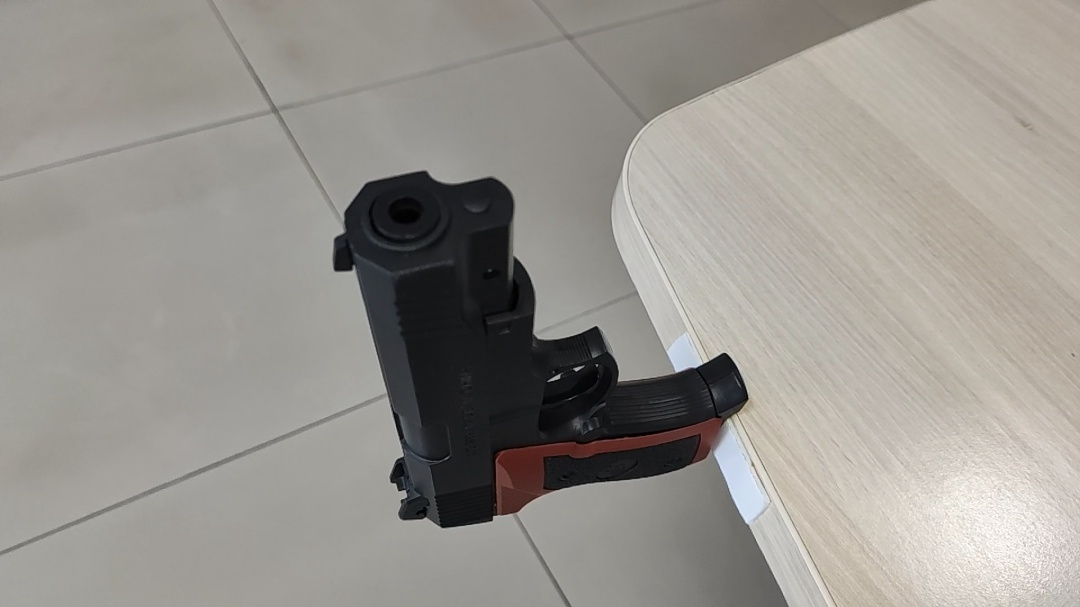gun: (521, 268, 547, 303)
